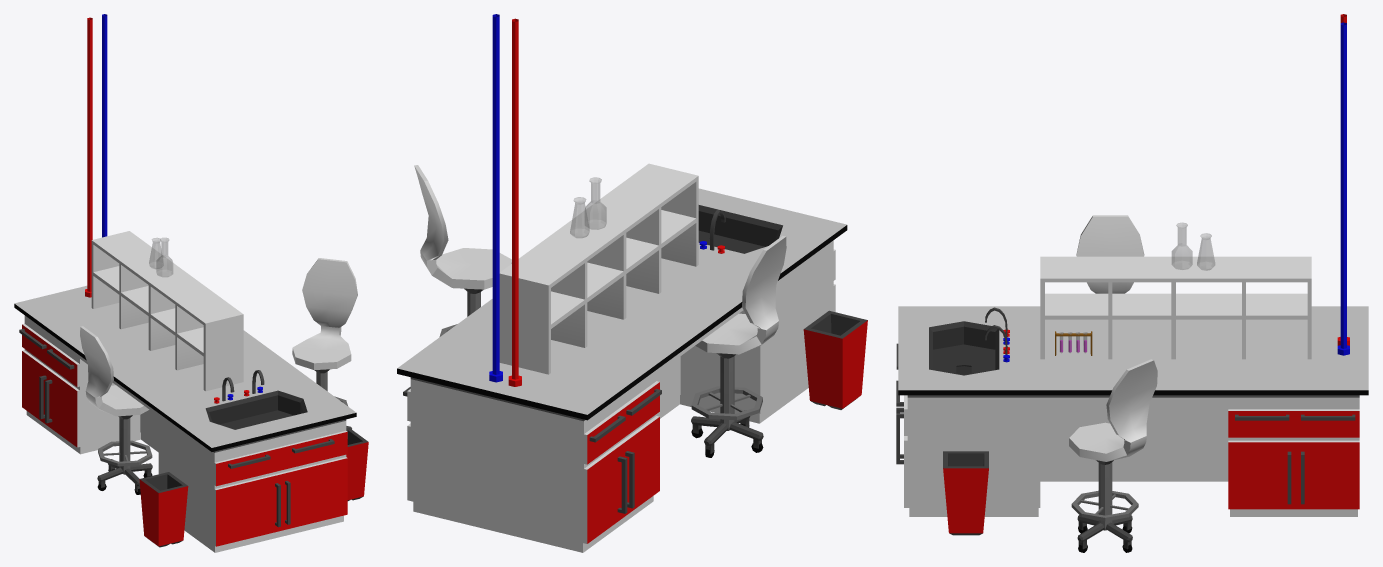
The model's file is lab_itens_0.fbx.
3 renders of one model, left to right at view 1: azimuth 30°, elevation 25°; view 2: azimuth 150°, elevation 25°; view 3: azimuth 270°, elevation 25°, orthographic. The views are drawn at different scales.
Parts seen in each view (by area): view 1: pasted__pCube3, pasted__pCube5, pasted__pCylinder91, pasted__pCylinder90, pCube23, pasted__pCylinder89, pCube21, pCylinder1; view 2: pasted__pCube3, pasted__pCube5, pasted__pCylinder90, pasted__pCylinder89, pCube23, pasted__pCylinder91, pCube21, pCylinder1, pCylinder7; view 3: pasted__pCube3, pasted__pCube5, pasted__pCylinder91, pCube23, pasted__pCylinder90, pasted__pCylinder89, pCube21, pCylinder1.
Boxes of the visible parts, x1=… form: pasted__pCube3: x1=14, y1=285, x2=356, y2=552; pasted__pCube5: x1=91, y1=231, x2=243, y2=391; pasted__pCylinder91: x1=292, y1=258, x2=357, y2=429; pasted__pCylinder90: x1=80, y1=326, x2=152, y2=494; pCube23: x1=139, y1=428, x2=368, y2=547; pasted__pCylinder89: x1=85, y1=14, x2=107, y2=297; pCube21: x1=19, y1=328, x2=334, y2=527; pCylinder1: x1=156, y1=237, x2=173, y2=277; pasted__pCube3: x1=397, y1=188, x2=847, y2=552; pasted__pCube5: x1=499, y1=163, x2=698, y2=374; pasted__pCylinder90: x1=691, y1=235, x2=786, y2=457; pasted__pCylinder89: x1=489, y1=14, x2=521, y2=386; pCube23: x1=803, y1=310, x2=867, y2=409; pasted__pCylinder91: x1=414, y1=165, x2=511, y2=336; pCube21: x1=403, y1=387, x2=661, y2=513; pCylinder1: x1=585, y1=177, x2=606, y2=229; pCylinder7: x1=570, y1=197, x2=589, y2=238; pasted__pCube3: x1=898, y1=306, x2=1368, y2=516; pasted__pCube5: x1=1040, y1=256, x2=1311, y2=359; pasted__pCylinder91: x1=1069, y1=359, x2=1157, y2=552; pCube23: x1=943, y1=451, x2=988, y2=535; pasted__pCylinder90: x1=1076, y1=215, x2=1144, y2=293; pasted__pCylinder89: x1=1337, y1=14, x2=1349, y2=355; pCube21: x1=896, y1=343, x2=1355, y2=504; pCylinder1: x1=1171, y1=222, x2=1192, y2=269.
Size of the model in its own units: 2.47 by 3.37 by 3.13.
